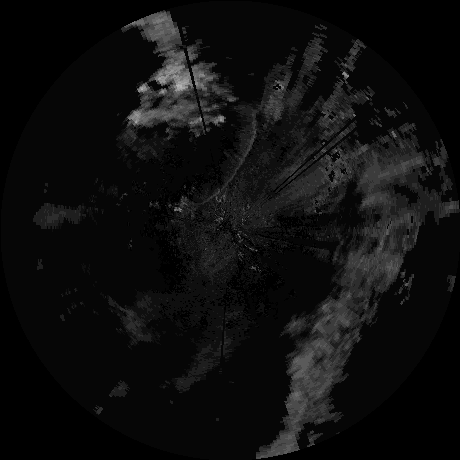frontgust: (186, 116, 256, 209)
